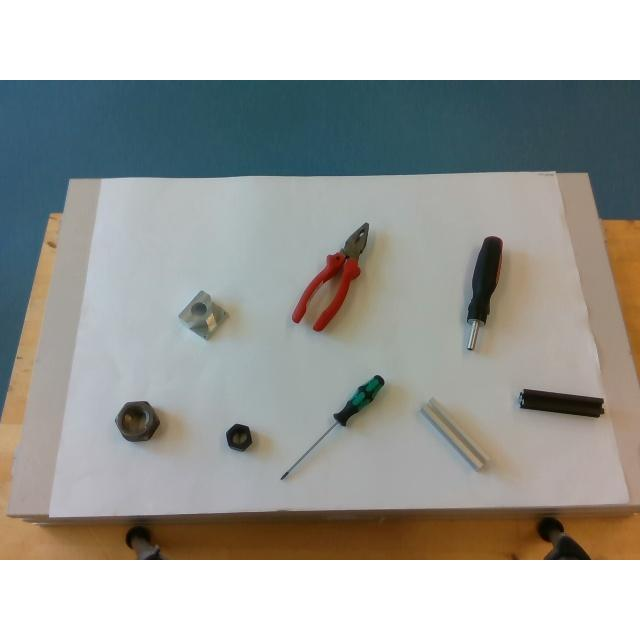F20_20_B: (518, 389, 602, 417)
F20_20_G: (420, 397, 488, 471)
M20: (226, 424, 252, 452)
M30: (114, 401, 158, 441)
Screwdriver: (280, 375, 384, 479)
